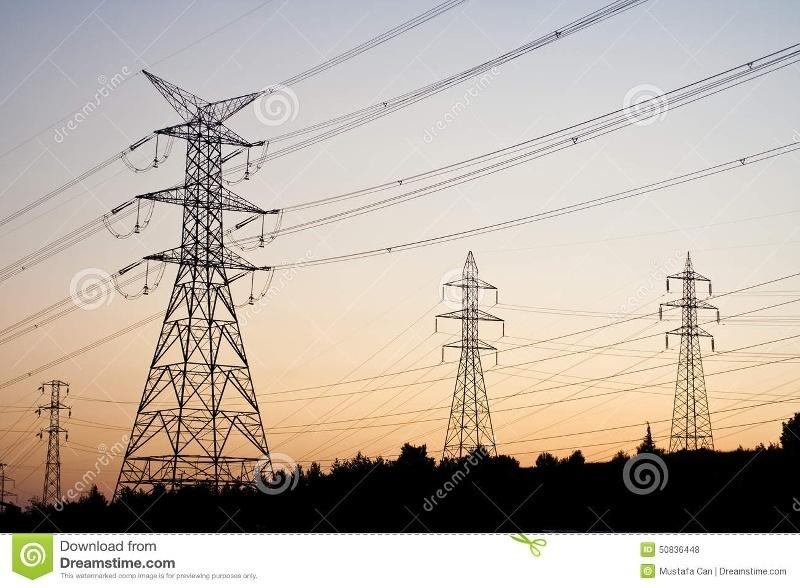power_tower: (119, 76, 315, 495), (431, 247, 510, 463), (660, 261, 724, 452), (28, 370, 82, 527)
